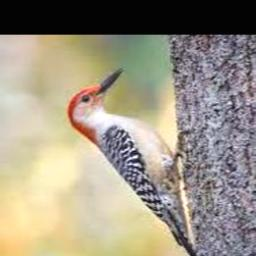Woodpecker: (67, 68, 202, 256)
